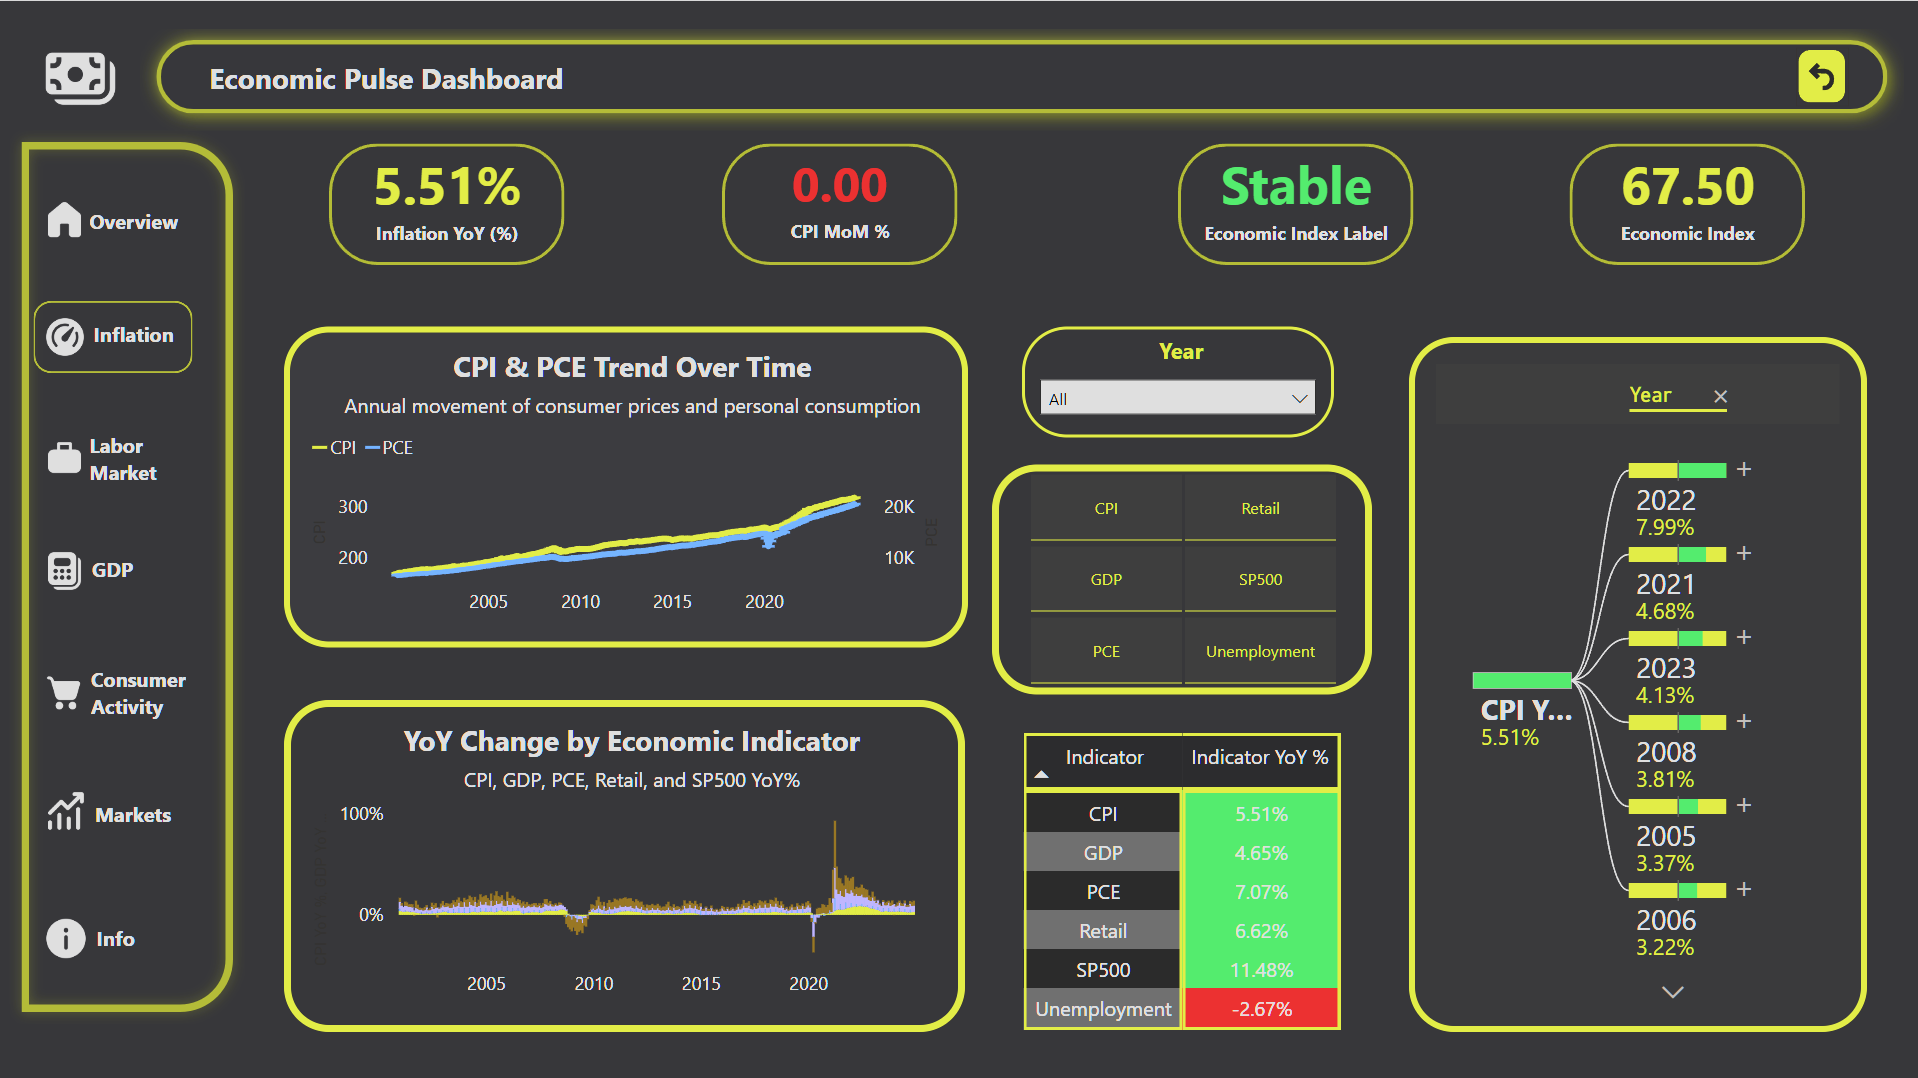

What the dashboard file says about the page in this screenshot:
{"tool":"powerbi","page":{"name":"Inflation Breakdown","canvas":[1280,720],"ordinal":1},"visuals":[{"type":"shape","title":"Economic Pulse Dashboard","box":[94.1,14.9,1176.2,70.8],"z":0},{"type":"shape","box":[220.1,94.9,156.8,81.2],"z":0,"group":"g1"},{"type":"shape","box":[482.2,94.9,156.8,81.2],"z":0,"group":"g12"},{"type":"shape","box":[785.7,94.9,156.8,81.2],"z":0,"group":"g4"},{"type":"shape","box":[1047.5,94.9,156.8,81.2],"z":0,"group":"g16"},{"type":"image","box":[29.2,195.4,29.6,58.1],"z":0,"group":"g3"},{"type":"image","box":[14.4,23.2,80,54.4],"z":1000},{"type":"card","fields":{"Values":["Measures_YoY.CPI YoY %"]},"box":[222.8,92.4,151.3,86.2],"z":1000,"group":"g1"},{"type":"card","fields":{"Values":["Measures_MoM.CPI MoM %"]},"box":[484.9,92.4,151.3,86.2],"z":1000,"group":"g12"},{"type":"card","fields":{"Values":["Measures_Scoring.Economic Index Label"]},"box":[788.4,92.4,151.3,86.2],"z":1000,"group":"g4"},{"type":"card","fields":{"Values":["Measures_Scoring.Economic Index"]},"box":[1050.2,92.4,151.3,86.2],"z":1000,"group":"g16"},{"type":"textbox","box":[38.6,207.6,102.6,51.8],"z":1000,"group":"g3"},{"type":"shape","box":[6.6,85.8,157.2,595.8],"z":2000},{"type":"group","id":"g1","title":"Group 1","box":[220.1,92.4,156.1,86.7],"z":2000,"group":"g15"},{"type":"shape","box":[15.2,200.6,113.7,47.5],"z":2000,"group":"g3"},{"type":"group","id":"g2","title":"Group 3","box":[23.4,116.7,112.1,79.1],"z":3000},{"type":"image","box":[29.2,116.7,29.6,58.1],"z":4000,"group":"g2"},{"type":"group","id":"g3","title":"Group 4","box":[15.2,195.4,126,64],"z":4000},{"type":"textbox","box":[56.5,436.7,76.2,69.6],"z":4000,"group":"g9"},{"type":"group","id":"g4","title":"Group 1","box":[785.7,92.4,156.8,86.2],"z":5000,"group":"g15"},{"type":"group","id":"g5","title":"Group 10","box":[14.4,351.2,104.4,69.6],"z":5000},{"type":"image","box":[29.2,351.2,29.6,58.1],"z":5000,"group":"g6"},{"type":"image","box":[29.2,276.1,29.6,58.1],"z":6000,"group":"g13"},{"type":"group","id":"g6","title":"Group 6","box":[29.2,351.2,80.9,69.6],"z":6000,"group":"g5"},{"type":"group","id":"g7","title":"Group 11","box":[25.2,432,107.5,74.4],"z":6000},{"type":"image","box":[29.2,432,29.6,58.1],"z":6000,"group":"g9"},{"type":"textbox","box":[44.2,131.8,91.3,64],"z":7000,"group":"g2"},{"type":"group","id":"g8","title":"Group 12","box":[22.2,511.4,125.6,76.2],"z":7000},{"type":"image","box":[29.2,511.4,29.6,58.1],"z":7000,"group":"g11"},{"type":"textbox","box":[41.4,364.4,68.7,56.5],"z":8000,"group":"g6"},{"type":"group","id":"g9","title":"Group 7","box":[29.2,432,103.5,74.4],"z":8000,"group":"g7"},{"type":"group","id":"g10","title":"Group 13","box":[14,596,111.7,59.3],"z":8000},{"type":"textbox","box":[54.6,280.8,90.4,89.4],"z":9000},{"type":"group","id":"g11","title":"Group 8","box":[29.2,511.4,118.6,76.2],"z":9000,"group":"g8"},{"type":"image","box":[28.8,596,30.6,58.1],"z":9000,"group":"g14"},{"type":"group","id":"g12","title":"Group 1","box":[482.2,92.4,156.1,86.7],"z":10000,"group":"g15"},{"type":"group","id":"g13","title":"Group 5","box":[23.4,276.1,93,58.1],"z":10000},{"type":"textbox","box":[30.1,527.4,117.6,60.2],"z":10000,"group":"g11"},{"type":"group","id":"g14","title":"Group 9","box":[28.8,596,96.9,59.3],"z":10000,"group":"g10"},{"type":"shape","box":[23.4,124.2,104.4,47.4],"z":10001,"group":"g2"},{"type":"group","id":"g15","title":"Group 2","box":[220.1,92.4,981.4,87.7],"z":11000},{"type":"group","id":"g16","title":"Group 1","box":[1047.5,92.4,154.1,87.7],"z":11000,"group":"g15"},{"type":"shape","box":[23.4,281.4,93,47.4],"z":11000,"group":"g13"},{"type":"textbox","box":[28.8,610.1,96.9,45.2],"z":11000,"group":"g14"},{"type":"lineChart","title":"CPI & PCE Trend Over Time","fields":{"Category":["Calendar.Date.Variation.Date Hierarchy.Year"],"Y2":["Sum(PCE.PCE_Value)"],"Y":["Sum(CPI.CPI_Value)"]},"box":[189.8,217,456.5,213.9],"z":12000},{"type":"shape","box":[14.4,357,104.4,47.4],"z":12002,"group":"g5"},{"type":"shape","box":[25.2,437.4,104.4,47.4],"z":12004,"group":"g7"},{"type":"shape","box":[22.2,516.6,104.4,47.4],"z":12006,"group":"g8"},{"type":"shape","box":[14,601.6,104.4,47.4],"z":12008,"group":"g10"},{"type":"pivotTable","fields":{"Rows":["Indicators.Indicator"],"Values":["Measures_YoY.Indicator YoY %"]},"box":[683,488,219,205],"z":13000},{"type":"decompositionTreeVisual","fields":{"ExplainBy":["Calendar.Year","Labor_Market_Merged.GDP_YoY","Labor_Market_Merged.PCE_YoY","Labor_Market_Merged.Retail_YoY","Labor_Market_Merged.SP500_YoY","Labor_Market_Merged.Unemployment_YoY"],"Analyze":["Measures_YoY.CPI YoY %"]},"box":[940,224,305,463],"z":14000},{"type":"columnChart","title":"YoY Change by Economic Indicator","fields":{"Category":["Calendar.Date.Variation.Date Hierarchy.Year"],"Y":["Measures_YoY.CPI YoY %","Measures_YoY.GDP YoY %","Measures_YoY.PCE YoY %","Measures_YoY.Retail Sales YoY %"]},"box":[190,466,454,221],"z":15000},{"type":"actionButton","title":"Reset","box":[1198.3,30.9,34.7,39.6],"z":16000},{"type":"slicer","title":"Year","fields":{"Values":["Calendar.Year"]},"box":[681.9,217.4,208.2,74],"z":18000},{"type":"slicer","fields":{"Values":["Indicators.Indicator"]},"box":[662,309.3,252.8,152.8],"z":19000}]}

Visuals, with their boxes in screenshot pixels (x1, y1, x2, y2), scaled from the page's 1280x720 canvas onto the 1918x1078 screenshot:
"Economic Pulse Dashboard" shape: 141:22:1903:128
shape: 330:142:565:264
shape: 723:142:958:264
shape: 1177:142:1412:264
shape: 1570:142:1805:264
image: 44:293:88:380
image: 22:35:141:116
card - Measures_YoY.CPI YoY %: 334:138:561:267
card - Measures_MoM.CPI MoM %: 727:138:953:267
card - Measures_Scoring.Economic Index Label: 1181:138:1408:267
card - Measures_Scoring.Economic Index: 1574:138:1800:267
textbox: 58:311:212:388
shape: 10:128:245:1021
"Group 1" group: 330:138:564:268
shape: 23:300:193:371
"Group 3" group: 35:175:203:293
image: 44:175:88:262
"Group 4" group: 23:293:212:388
textbox: 85:654:199:758
"Group 1" group: 1177:138:1412:267
"Group 10" group: 22:526:178:630
image: 44:526:88:613
image: 44:413:88:500
"Group 6" group: 44:526:165:630
"Group 11" group: 38:647:199:758
image: 44:647:88:734
textbox: 66:197:203:293
"Group 12" group: 33:766:221:880
image: 44:766:88:853
textbox: 62:546:165:630
"Group 7" group: 44:647:199:758
"Group 13" group: 21:892:188:981
textbox: 82:420:217:554
"Group 8" group: 44:766:221:880
image: 43:892:89:979
"Group 1" group: 723:138:956:268
"Group 5" group: 35:413:174:500
textbox: 45:790:221:880
"Group 9" group: 43:892:188:981
shape: 35:186:192:257
"Group 2" group: 330:138:1800:270
"Group 1" group: 1570:138:1801:270
shape: 35:421:174:492
textbox: 43:913:188:981
"CPI & PCE Trend Over Time" lineChart: 284:325:968:645
shape: 22:535:178:605
shape: 38:655:194:726
shape: 33:773:190:844
shape: 21:901:177:972
pivotTable - Indicators.Indicator x Measures_YoY.Indicator YoY %: 1023:731:1352:1038
decompositionTreeVisual - Calendar.Year x Labor_Market_Merged.GDP_YoY: 1409:335:1866:1029
"YoY Change by Economic Indicator" columnChart: 285:698:965:1029
"Reset" actionButton: 1796:46:1848:106
"Year" slicer: 1022:325:1334:436
slicer - Indicators.Indicator: 992:463:1371:692
